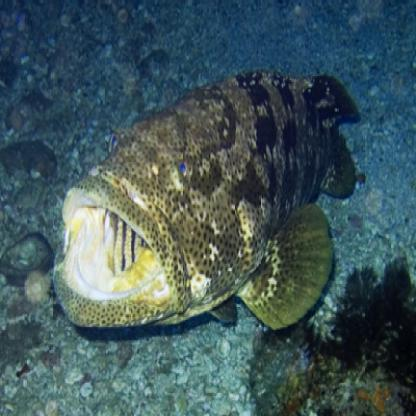Serranidae -Groupers-: (47, 61, 368, 335)
